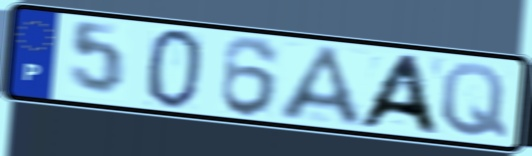0: (142, 27, 207, 111)
5: (69, 18, 131, 103)
6: (218, 33, 281, 121)
A: (274, 43, 369, 130), (350, 52, 444, 138)
Q: (438, 60, 510, 141)
